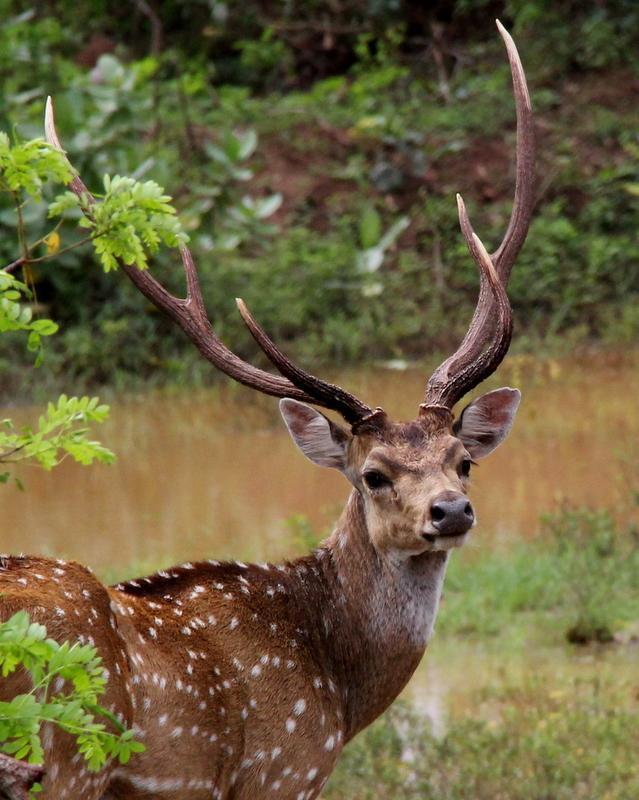Deer: (0, 22, 534, 799)
